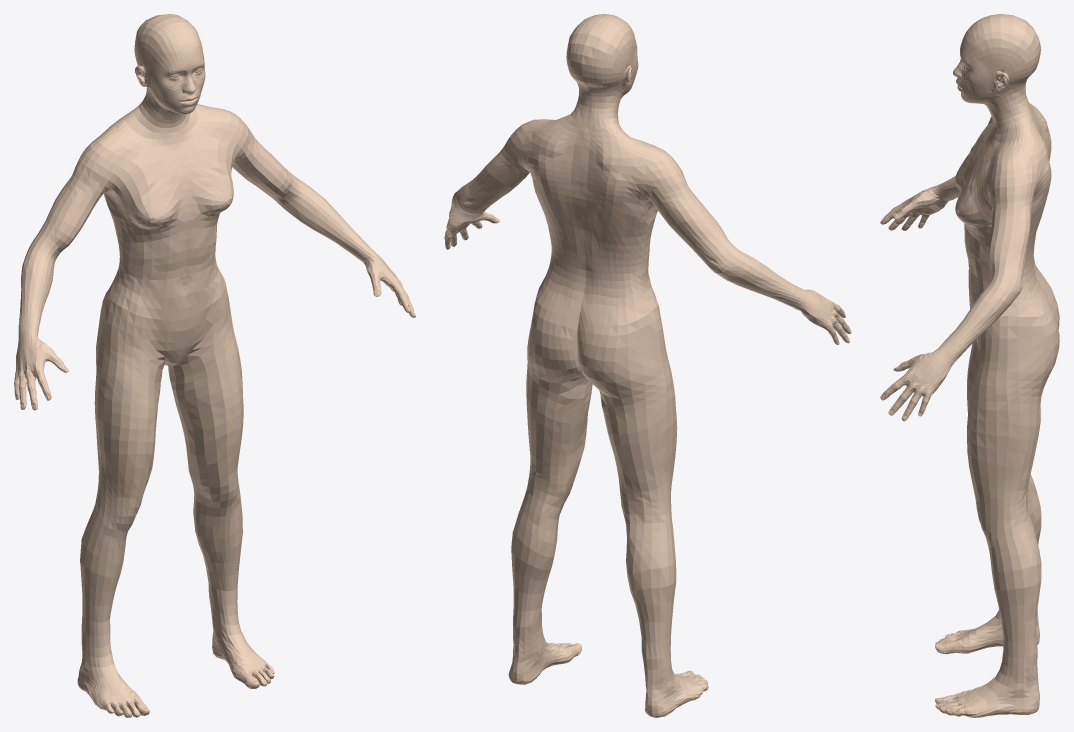
Rendered from female-adult-fit-high.glb.
3 renders of one model, left to right at view 1: azimuth 30°, elevation 25°; view 2: azimuth 150°, elevation 25°; view 3: azimuth 270°, elevation 25°, orthographic.
Parts seen in each view (by area): view 1: world; view 2: world; view 3: world.
Boxes of the visible parts, bbox=[...] form: world: bbox=[14, 14, 415, 717]; world: bbox=[444, 14, 851, 717]; world: bbox=[880, 14, 1059, 717].
Bounding box in the file's own units: 1.12 × 1.81 × 0.4444.
